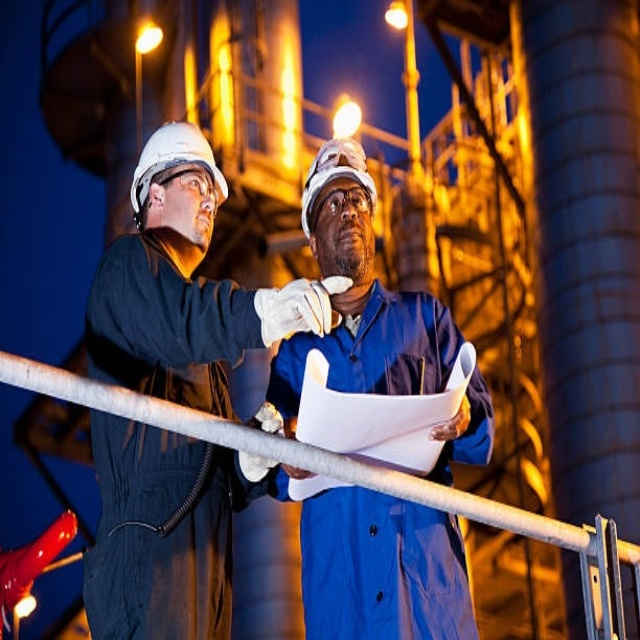Gafas: (155, 169, 221, 202), (319, 187, 373, 218)
Guantes: (253, 275, 350, 345), (237, 406, 284, 484)
Sin_guantes: (428, 386, 475, 444)
Sin_mascara: (332, 224, 364, 259), (188, 209, 218, 237)
